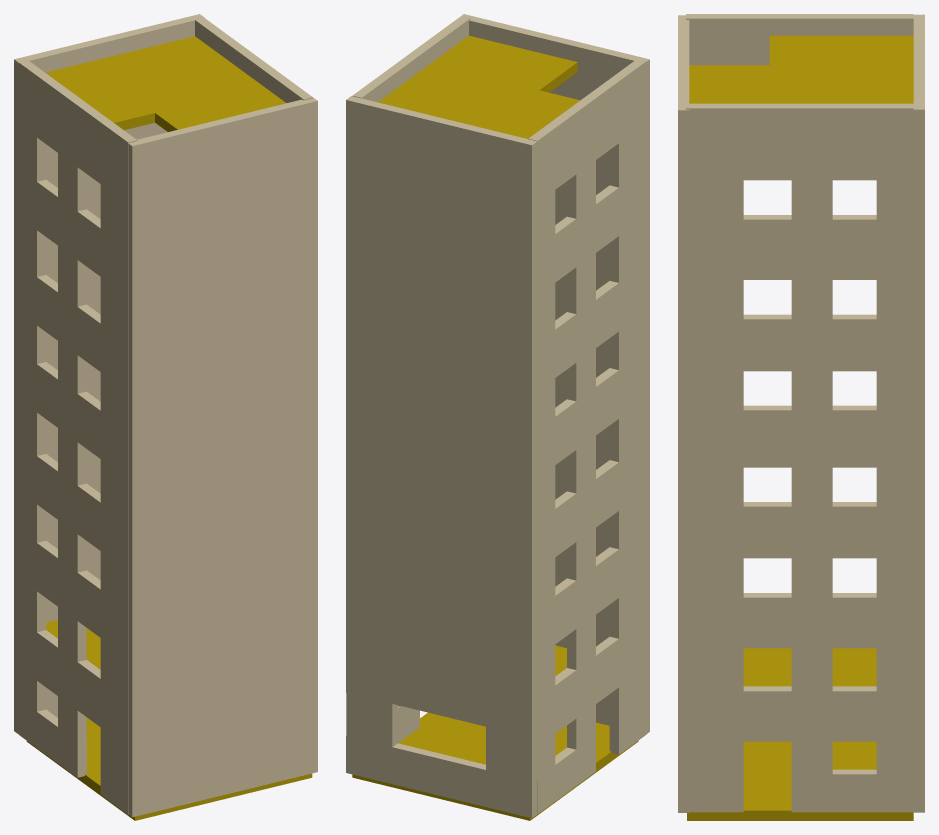
Rendered from tower.glb.
3 views of the same model, side by side, from view 1: azimuth 30°, elevation 25°; view 2: azimuth 150°, elevation 25°; view 3: azimuth 270°, elevation 25° (orthographic). The views are drawn at different scales.
Parts seen in each view (by area): view 1: Cube, Cube__16_, Cube__31_, Cube__30_, Cube__4_, Cube__32_, Cube__29_, Cube__28_, Cube__26_, Cube__27_, Cube__24_, Cube__25_ (+6 smaller); view 2: Cube__4_, Cube__16_, Cube__30_, Cube, Cube__31_, Cube__32_, Cube__3_, Cube__29_, Cube__28_, Cube__27_, Cube__26_, Cube__33_ (+9 smaller); view 3: Cube__11_, Cube__9_, Cube__10_, Cube__23_, Cube__22_, Cube__21_, Cube__8_, Cube__19_, Cube__32_, Cube__20_, Cube, Cube__4_ (+13 smaller).
Part boxes in pixels (left/top/right/bottom): Cube: left=128, top=97, right=317, bottom=817; Cube__16_: left=100, top=124, right=136, bottom=814; Cube__31_: left=17, top=62, right=46, bottom=712; Cube__30_: left=58, top=93, right=86, bottom=743; Cube__4_: left=14, top=14, right=204, bottom=652; Cube__32_: left=45, top=36, right=263, bottom=130; Cube__29_: left=19, top=60, right=137, bottom=201; Cube__28_: left=19, top=169, right=127, bottom=296; Cube__26_: left=19, top=360, right=127, bottom=476; Cube__27_: left=19, top=265, right=127, bottom=389; Cube__24_: left=19, top=541, right=100, bottom=637; Cube__25_: left=19, top=452, right=111, bottom=558; Cube__4_: left=346, top=96, right=536, bottom=735; Cube__16_: left=609, top=67, right=646, bottom=754; Cube__30_: left=567, top=98, right=595, bottom=749; Cube: left=461, top=14, right=649, bottom=733; Cube__31_: left=535, top=129, right=555, bottom=781; Cube__32_: left=378, top=64, right=579, bottom=138; Cube__3_: left=346, top=736, right=537, bottom=818; Cube__29_: left=528, top=59, right=646, bottom=202; Cube__28_: left=537, top=167, right=646, bottom=295; Cube__27_: left=537, top=263, right=646, bottom=390; Cube__26_: left=537, top=350, right=646, bottom=477; Cube__33_: left=430, top=35, right=577, bottom=92; Cube__11_: left=685, top=105, right=743, bottom=812; Cube__9_: left=791, top=108, right=832, bottom=774; Cube__10_: left=876, top=109, right=913, bottom=774; Cube__23_: left=686, top=103, right=913, bottom=173; Cube__22_: left=689, top=215, right=913, bottom=270; Cube__21_: left=689, top=314, right=913, bottom=369; Cube__8_: left=689, top=686, right=913, bottom=741; Cube__19_: left=689, top=502, right=913, bottom=557; Cube__32_: left=769, top=35, right=913, bottom=103; Cube__20_: left=689, top=405, right=913, bottom=460; Cube: left=678, top=15, right=689, bottom=812; Cube__4_: left=913, top=14, right=924, bottom=728.
Size of the model in its own units: 10.02 by 35.02 by 11.
